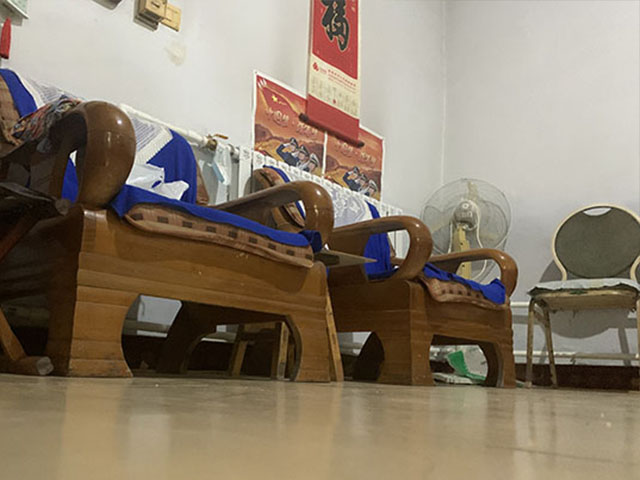stool: (1, 68, 345, 386), (248, 156, 518, 394), (522, 202, 640, 393)
